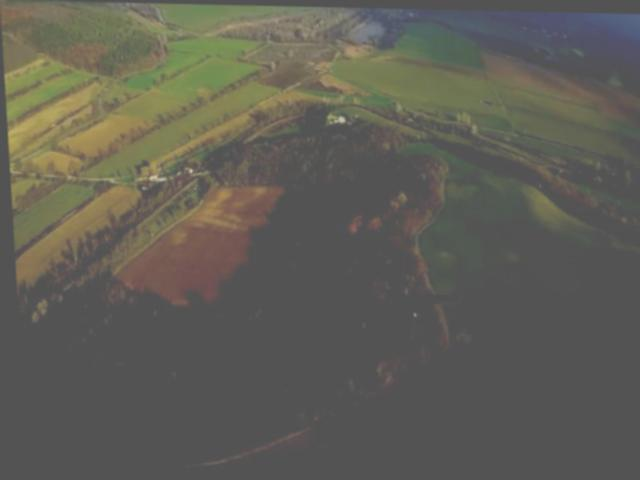iha: (361, 274, 461, 329)
